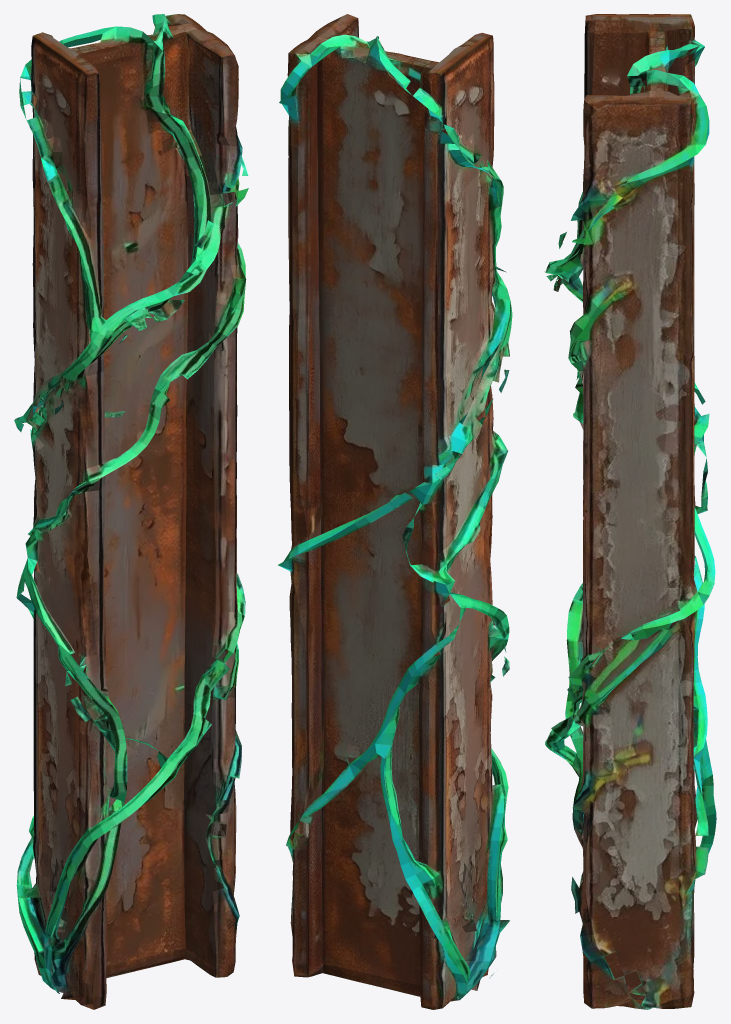
The model's file is metal-column.glb.
The picture shows the model from 3 angles, left to right: view 1: azimuth 30°, elevation 25°; view 2: azimuth 150°, elevation 25°; view 3: azimuth 270°, elevation 25°; orthographic projection.
Bounding box in the file's own units: 0.4163 × 1.91 × 0.327.
Materials: 1 (1 with a texture image).
